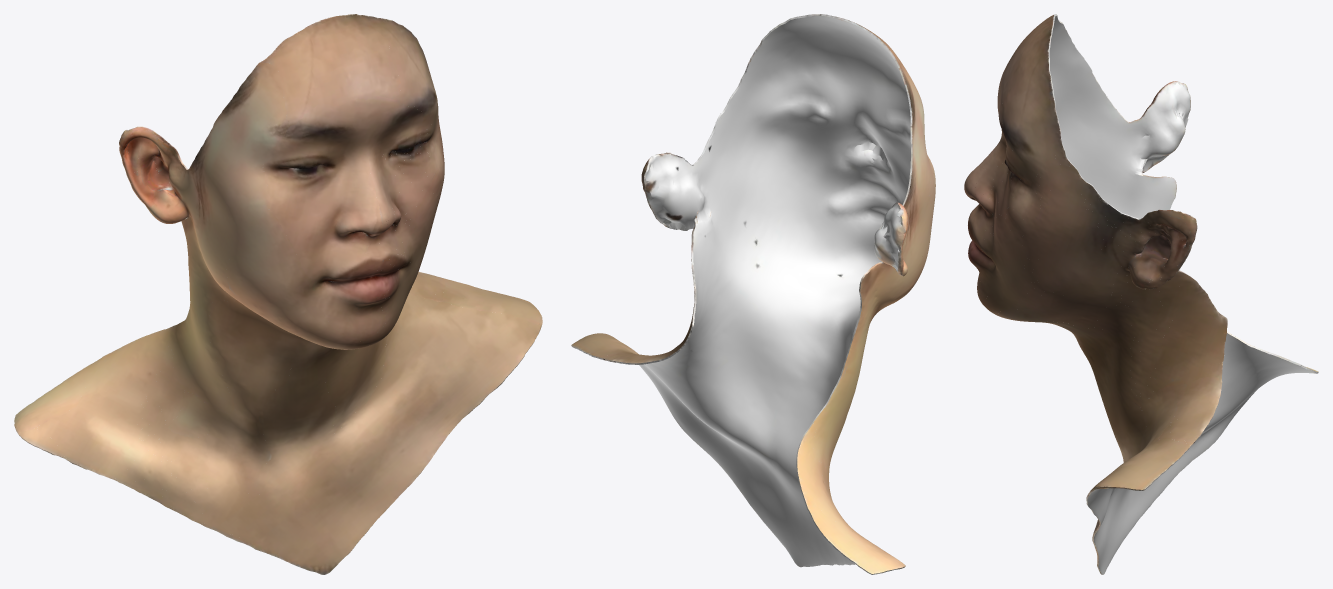
The model's file is 真人头像_女02_opt.glb.
3 views of the same model, side by side, from view 1: azimuth 30°, elevation 25°; view 2: azimuth 150°, elevation 25°; view 3: azimuth 270°, elevation 25° (orthographic). The views are drawn at different scales.
Visible parts, largest first — view 1: _image_1, _image_3, _image_2, _image; view 2: _image, _image_2, _image_3, _image_1; view 3: _image, _image_2, _image_1, _image_3.
Boxes of the visible parts, left/top/right/bottom form: _image_1: left=182, top=94, right=542, bottom=574; _image_3: left=19, top=14, right=444, bottom=546; _image_2: left=18, top=62, right=444, bottom=523; _image: left=14, top=14, right=542, bottom=569; _image: left=571, top=14, right=912, bottom=574; _image_2: left=696, top=60, right=934, bottom=567; _image_3: left=609, top=20, right=911, bottom=566; _image_1: left=602, top=173, right=935, bottom=363; _image: left=964, top=14, right=1318, bottom=574; _image_2: left=968, top=161, right=1190, bottom=462; _image_1: left=965, top=103, right=1227, bottom=533; _image_3: left=964, top=15, right=1192, bottom=442.
Size of the model in its own units: 0.2353 by 0.3 by 0.1776.
1 material, 1 textured.
